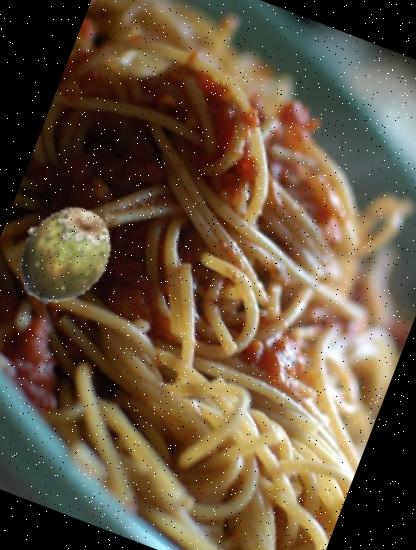Cactus: (0, 186, 131, 324)
